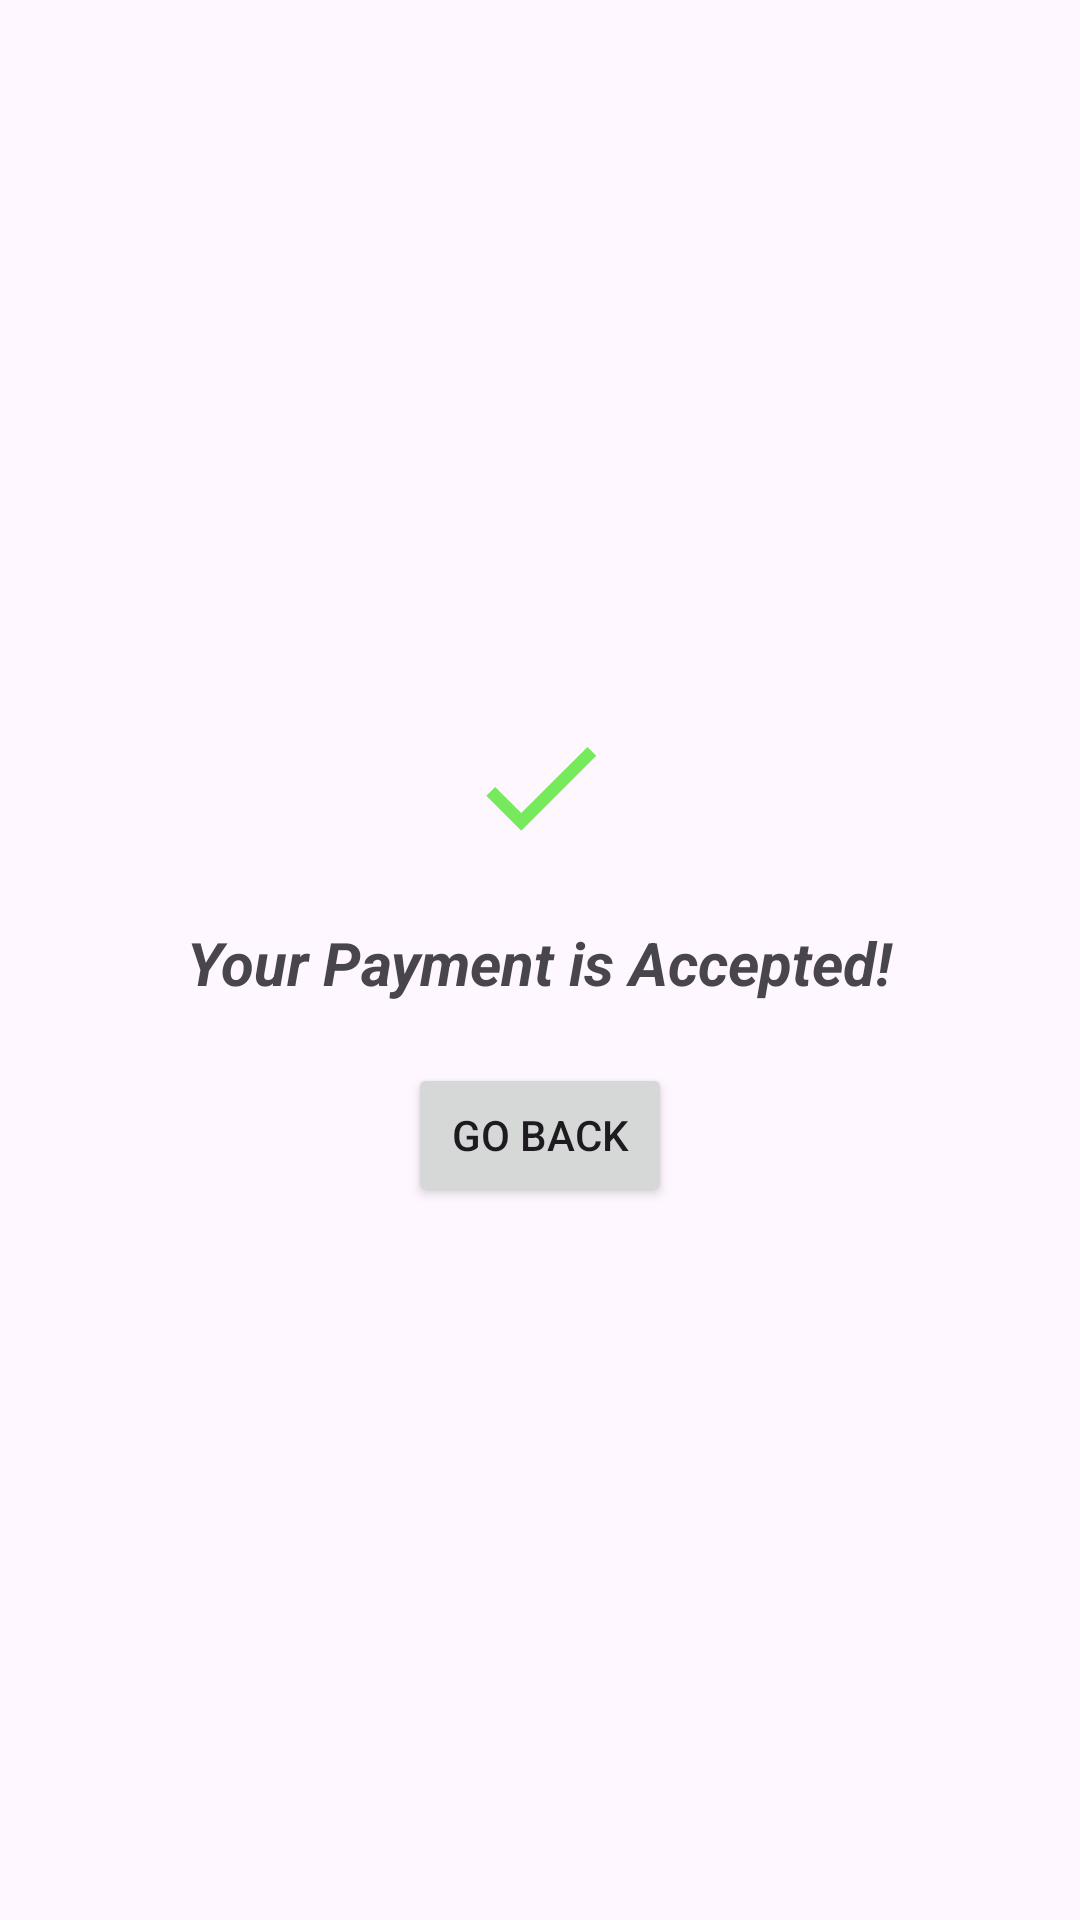

Icon click points for this 1080x1920 phone screenshot, format point (x, y):
greencheck: point (541, 789)
